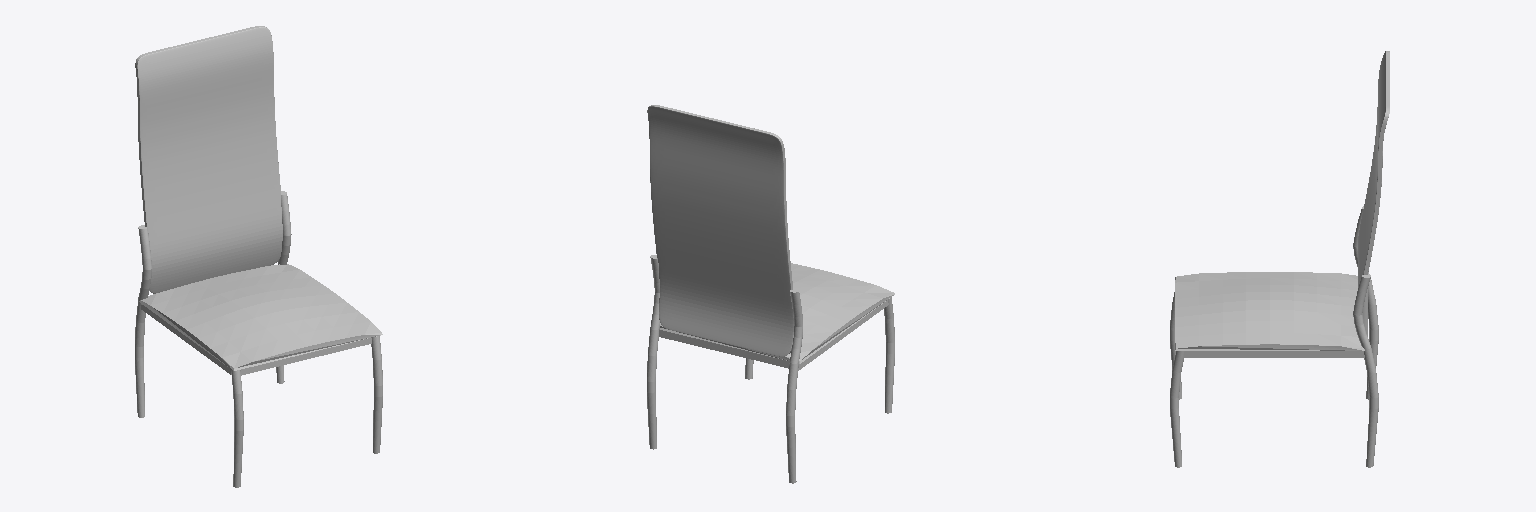
File: Ontario.obj
3 views of the same model, side by side, from view 1: azimuth 30°, elevation 25°; view 2: azimuth 150°, elevation 25°; view 3: azimuth 270°, elevation 25° (orthographic).
Parts seen in each view (by area): view 1: Cube.006_Cube.007, Cube.005_Cube.006, Cube.004_Cube.005; view 2: Cube.006_Cube.007, Cube.004_Cube.005, Cube.005_Cube.006; view 3: Cube.005_Cube.006, Cube.004_Cube.005, Cube.006_Cube.007.
Part boxes in pixels (left/top/right/bottom): Cube.006_Cube.007: left=135, top=26, right=282, bottom=293; Cube.005_Cube.006: left=139, top=264, right=382, bottom=370; Cube.004_Cube.005: left=135, top=191, right=382, bottom=487; Cube.006_Cube.007: left=647, top=105, right=793, bottom=356; Cube.004_Cube.005: left=647, top=255, right=894, bottom=483; Cube.005_Cube.006: left=660, top=263, right=894, bottom=363; Cube.005_Cube.006: left=1175, top=272, right=1364, bottom=350; Cube.004_Cube.005: left=1170, top=206, right=1378, bottom=467; Cube.006_Cube.007: left=1358, top=51, right=1389, bottom=335.
Size of the model in its own units: 0.7924 by 1.78 by 1.01.